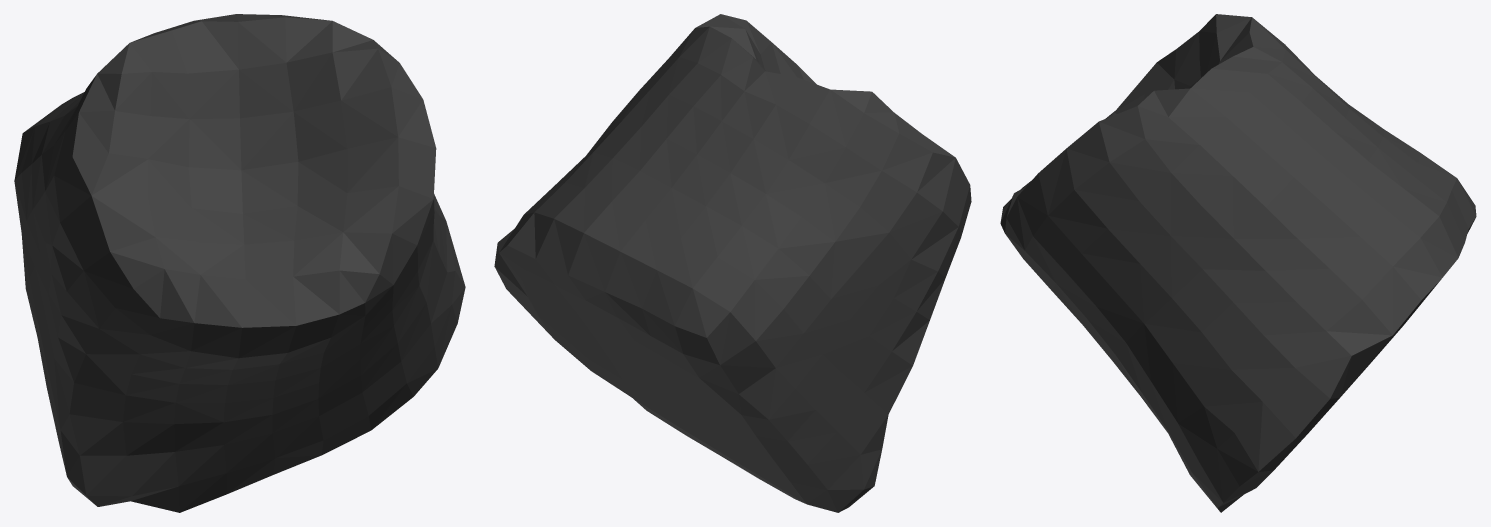
File: LEFT_SUBCLAVIAN_ARTERY.glb
The picture shows the model from 3 angles, left to right: view 1: azimuth 30°, elevation 25°; view 2: azimuth 150°, elevation 25°; view 3: azimuth 270°, elevation 25°; orthographic projection. The views are drawn at different scales.
Visible parts, largest first — view 1: LEFT_SUBCLAVIAN_ARTERY; view 2: LEFT_SUBCLAVIAN_ARTERY; view 3: LEFT_SUBCLAVIAN_ARTERY.
Part boxes in pixels (x1,y1,x2,y2): LEFT_SUBCLAVIAN_ARTERY: (14,14,465,512); LEFT_SUBCLAVIAN_ARTERY: (494,14,971,512); LEFT_SUBCLAVIAN_ARTERY: (1000,14,1476,512).
Bounding box in the file's own units: 15.21 × 16.05 × 15.49.
Materials: 1 (1 with a texture image).
